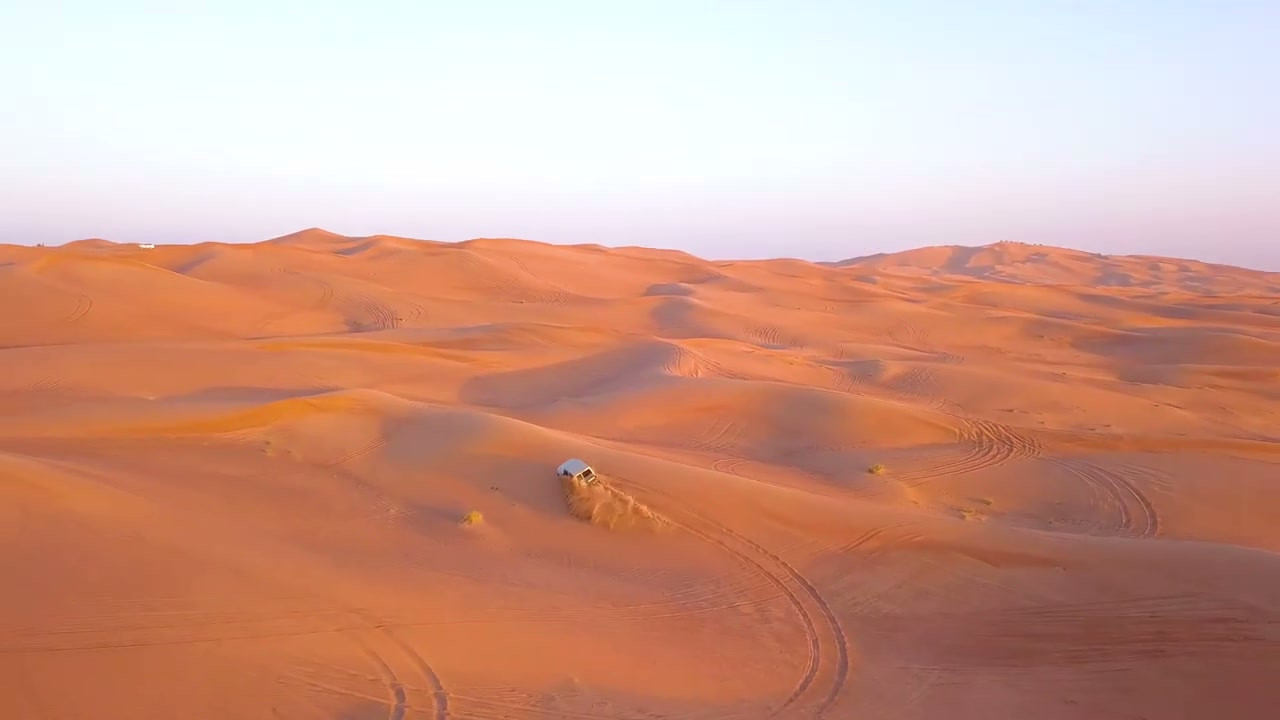vehicle_track: (611, 478, 848, 717), (896, 415, 1041, 487), (1047, 457, 1158, 537), (690, 417, 741, 451), (62, 294, 92, 323)
